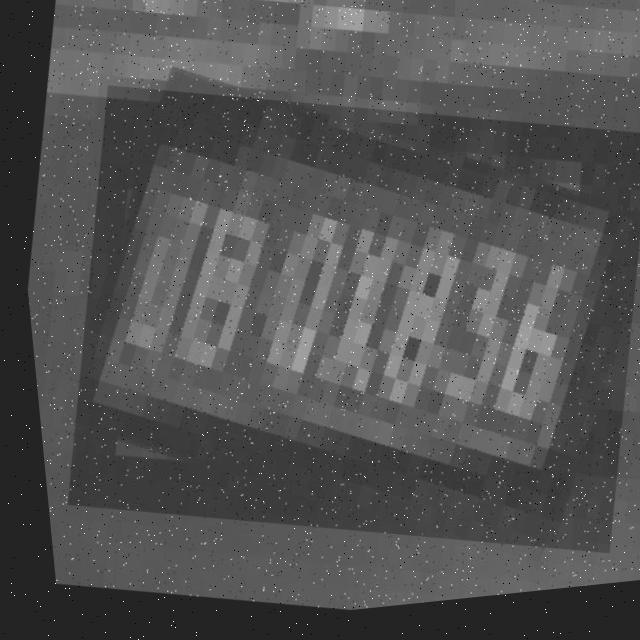LicensePlate: (26, 44, 640, 609)
